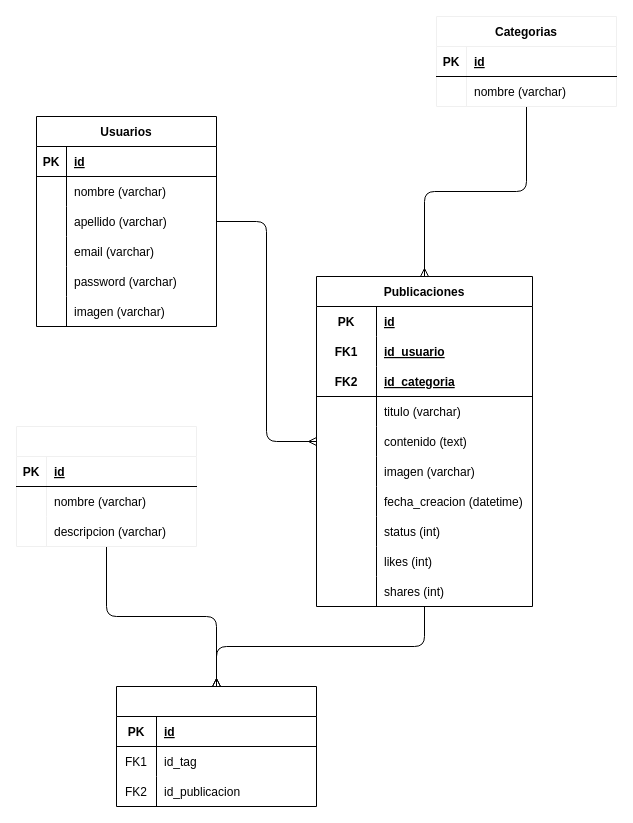
The diagram is 633 pixels wide and 823 high, and some of its shapes have lost their labels. The shapes that lost their labels are listed below. From the top down, each one's box as (x1, y1, x2, y2) in pixels, then its label:
(16, 426, 196, 546): Tags
(116, 686, 316, 806): Publicacion_Tag
